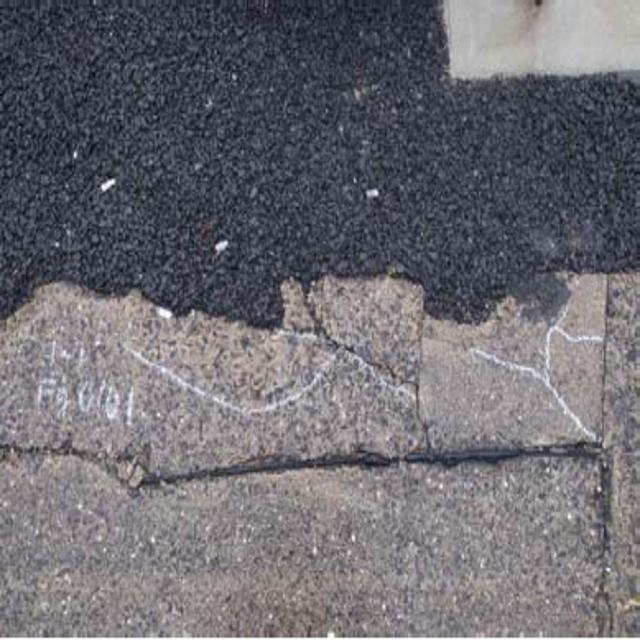crack: (20, 433, 623, 571), (294, 264, 426, 413)
